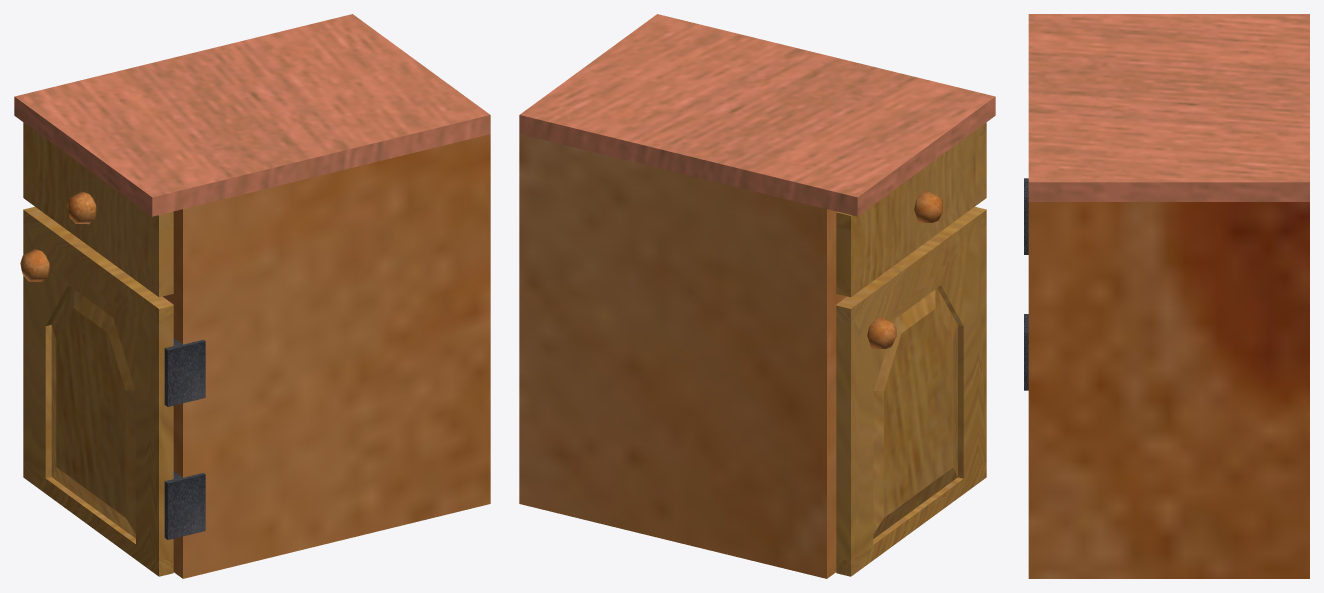
The model's file is kitchen table.FBX.
3 views of the same model, side by side, from view 1: azimuth 30°, elevation 25°; view 2: azimuth 150°, elevation 25°; view 3: azimuth 270°, elevation 25° (orthographic).
Parts seen in each view (by area): view 1: Box001, Object003, Sphere002, Sphere001, Box002, Box003, Object002, Object001; view 2: Box001, Object003, Sphere002, Sphere001, Object002, Object001; view 3: Box001, Object003, Box002, Box003.
Part boxes in pixels (x1=…): Box001: x1=163, y1=134, x2=490, y2=578; Object003: x1=14, y1=14, x2=490, y2=216; Sphere002: x1=23, y1=206, x2=173, y2=576; Sphere001: x1=23, y1=122, x2=173, y2=297; Box002: x1=164, y1=471, x2=205, y2=539; Box003: x1=164, y1=338, x2=205, y2=406; Object002: x1=20, y1=249, x2=49, y2=281; Object001: x1=67, y1=191, x2=96, y2=224; Box001: x1=519, y1=134, x2=846, y2=578; Object003: x1=519, y1=14, x2=995, y2=216; Sphere002: x1=836, y1=206, x2=986, y2=576; Sphere001: x1=836, y1=122, x2=986, y2=297; Object002: x1=867, y1=316, x2=896, y2=348; Object001: x1=914, y1=190, x2=942, y2=222; Box001: x1=1028, y1=202, x2=1309, y2=578; Object003: x1=1028, y1=14, x2=1309, y2=201; Box002: x1=1024, y1=314, x2=1028, y2=390; Box003: x1=1024, y1=178, x2=1028, y2=254.
Size of the model in its own units: 64.87 by 68.17 by 44.49.
Materials: 4 (4 with a texture image).
